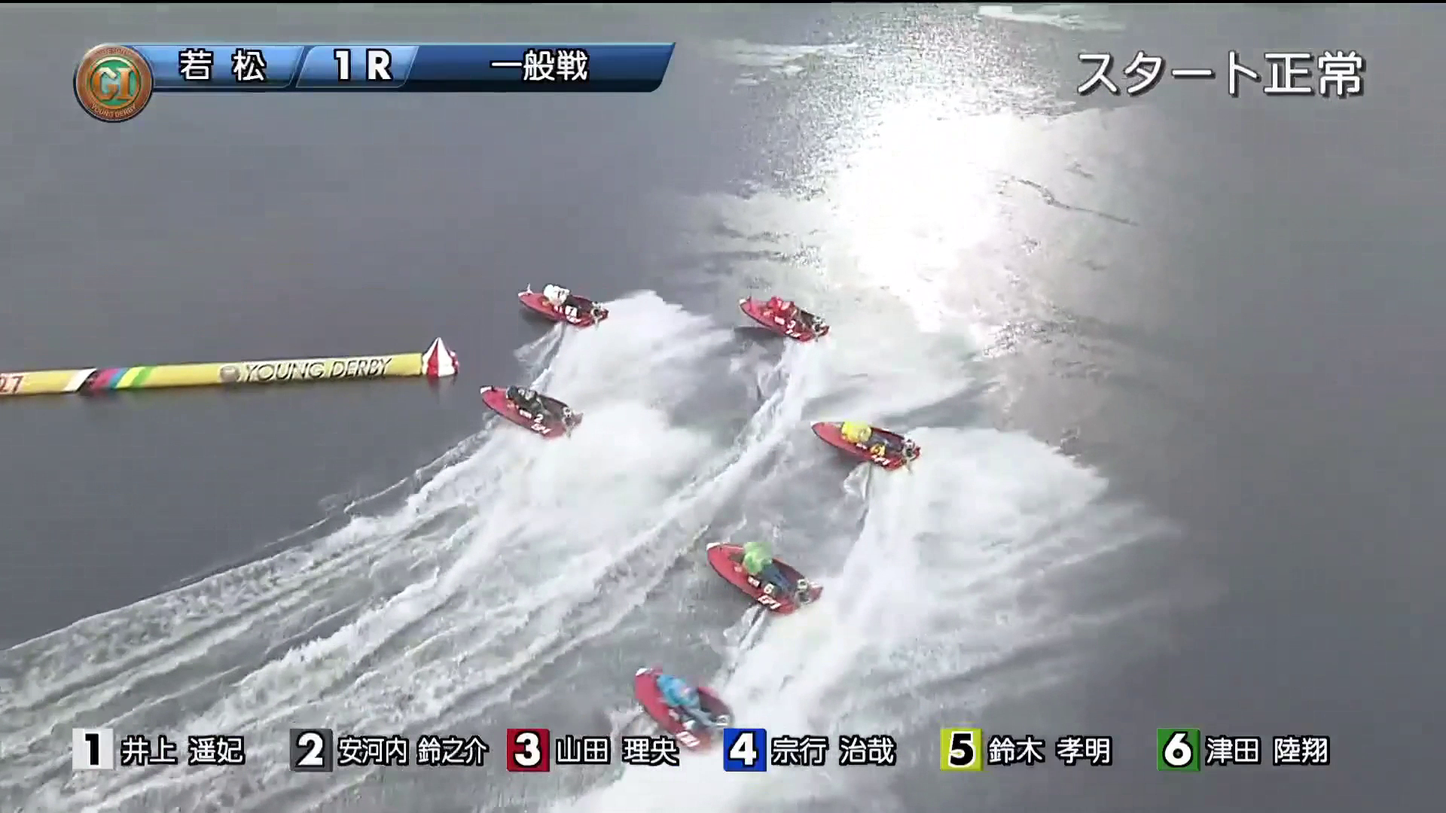１号艇: (501, 285, 571, 338)
２号艇: (449, 375, 577, 435)
３号艇: (740, 283, 838, 330)
４号艇: (698, 534, 832, 599)
５号艇: (633, 669, 757, 724)
６号艇: (815, 399, 915, 474)
